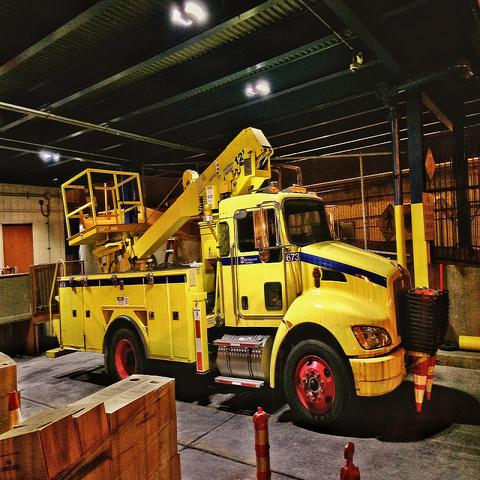truck: (45, 124, 448, 434)
